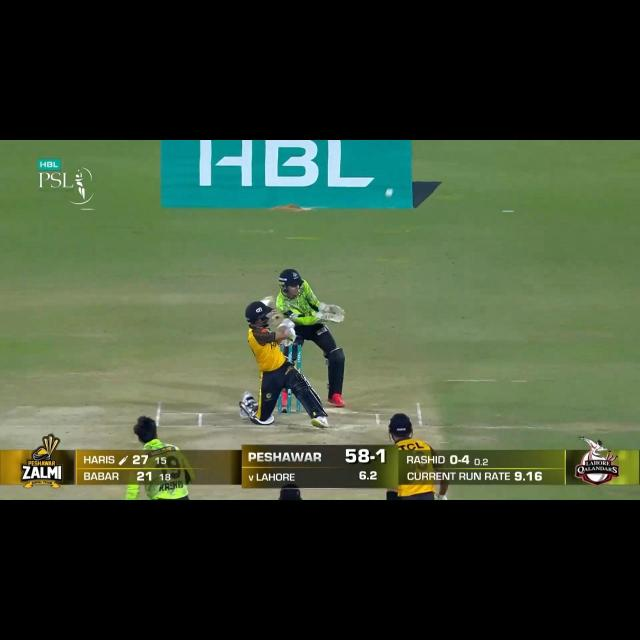toe: (262, 295, 277, 309)
